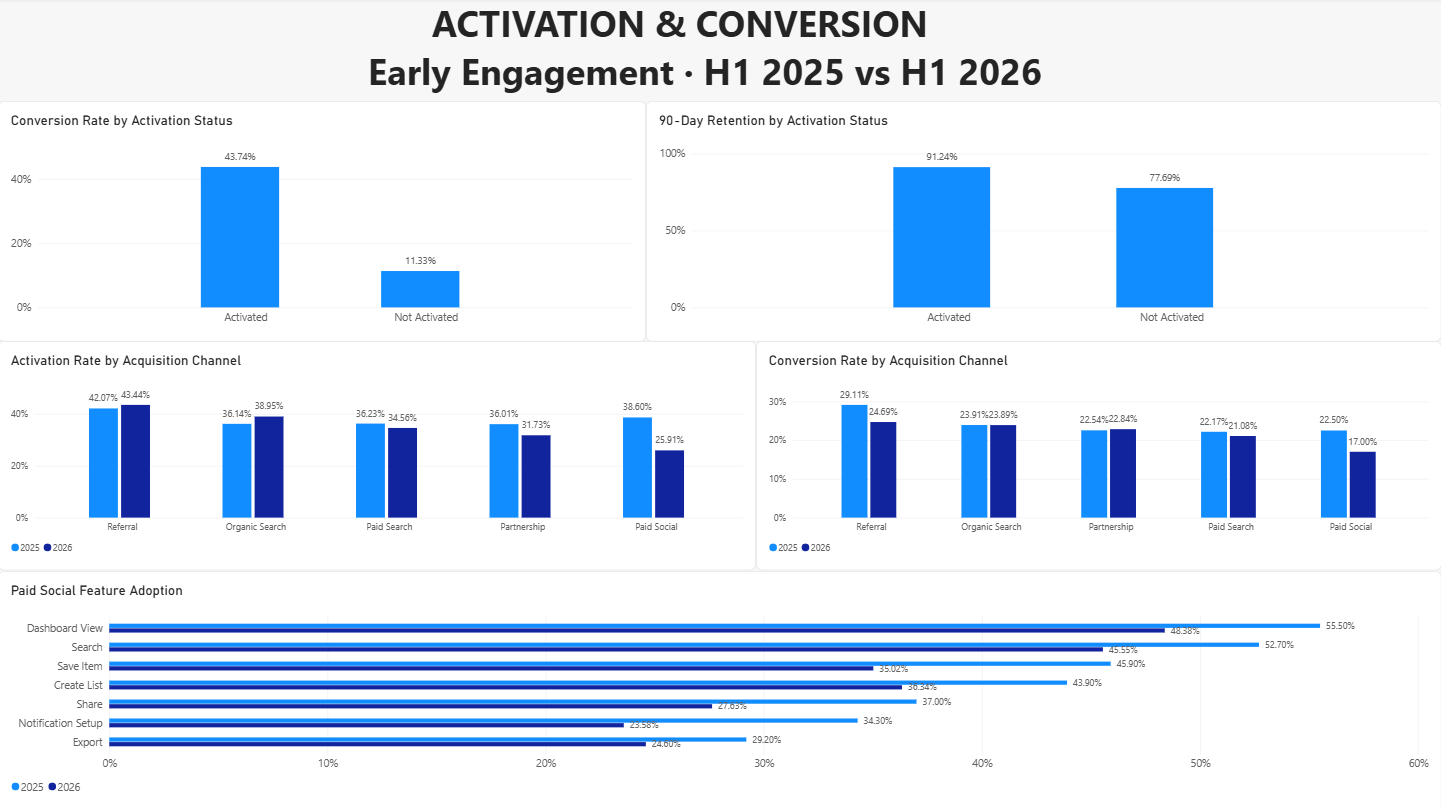

The page's visual inventory and layout, read from the dashboard file:
{"tool":"powerbi","page":{"name":"Activation & Conversion","canvas":[1920,1080],"ordinal":1},"visuals":[{"type":"clusteredColumnChart","title":"Conversion Rate by Activation Status","fields":{"Category":["User Metrics.Activation Status"],"Y":["User Metrics.Conversion Rate"]},"box":[0,137.1,862.2,319.5],"z":0},{"type":"clusteredColumnChart","title":"90-Day Retention by Activation Status","fields":{"Category":["User Metrics.Activation Status"],"Y":["User Metrics.90D Retention Rate"]},"box":[862.2,137.1,1057.8,319.5],"z":1},{"type":"clusteredColumnChart","title":"Activation Rate by Acquisition Channel","fields":{"Category":["User Metrics.acquisition_channel"],"Y":["User Metrics.Activation Rate"],"Series":["Date.Year"]},"box":[0,456.7,1008.1,304.9],"z":2},{"type":"clusteredColumnChart","title":"Conversion Rate by Acquisition Channel","fields":{"Category":["User Metrics.acquisition_channel"],"Series":["Date.Year"],"Y":["User Metrics.Conversion Rate"]},"box":[1008.1,456.7,911.9,304.9],"z":3},{"type":"clusteredBarChart","title":"Paid Social Feature Adoption","fields":{"Category":["Feature Adoption.event_name"],"Y":["Feature Adoption.Feature Adoption Rate"],"Series":["Date.Year"]},"box":[0,761.6,1920,318.1],"z":4},{"type":"textbox","box":[0,0,1920,137.1],"z":5}]}

Visuals, with their boxes in screenshot pixels (x1, y1, x2, y2), scaled from the page's 1920x1080 canvas onto the 1441x806 screenshot:
"Conversion Rate by Activation Status" clusteredColumnChart: locate(0, 102, 647, 341)
"90-Day Retention by Activation Status" clusteredColumnChart: locate(647, 102, 1440, 341)
"Activation Rate by Acquisition Channel" clusteredColumnChart: locate(0, 341, 757, 568)
"Conversion Rate by Acquisition Channel" clusteredColumnChart: locate(757, 341, 1440, 568)
"Paid Social Feature Adoption" clusteredBarChart: locate(0, 568, 1440, 805)
textbox: locate(0, 0, 1440, 102)
